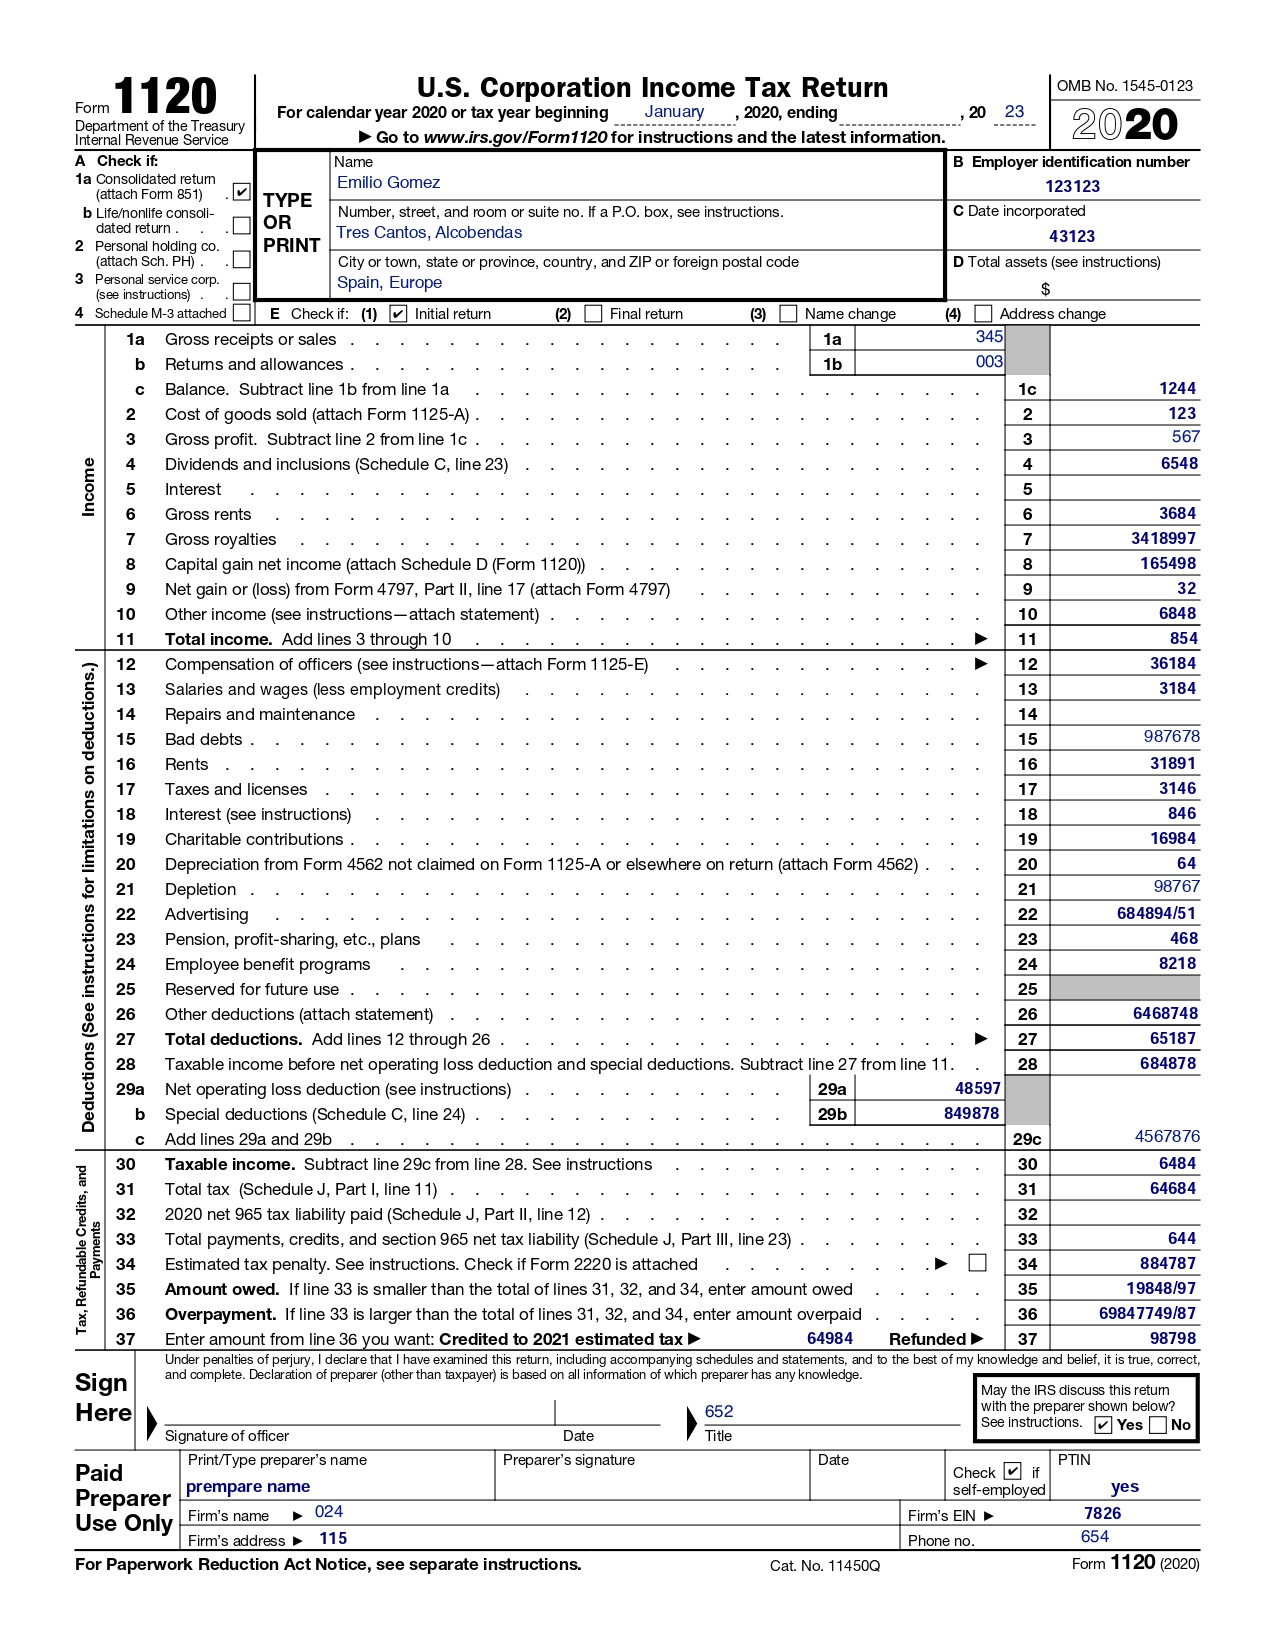form: (51, 67, 1233, 325), (40, 1349, 1216, 1550)
table: (36, 325, 1233, 1350)
